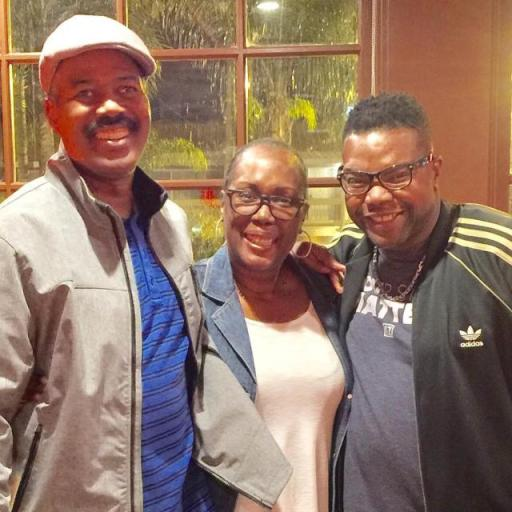Adidas: (458, 324, 484, 350)
